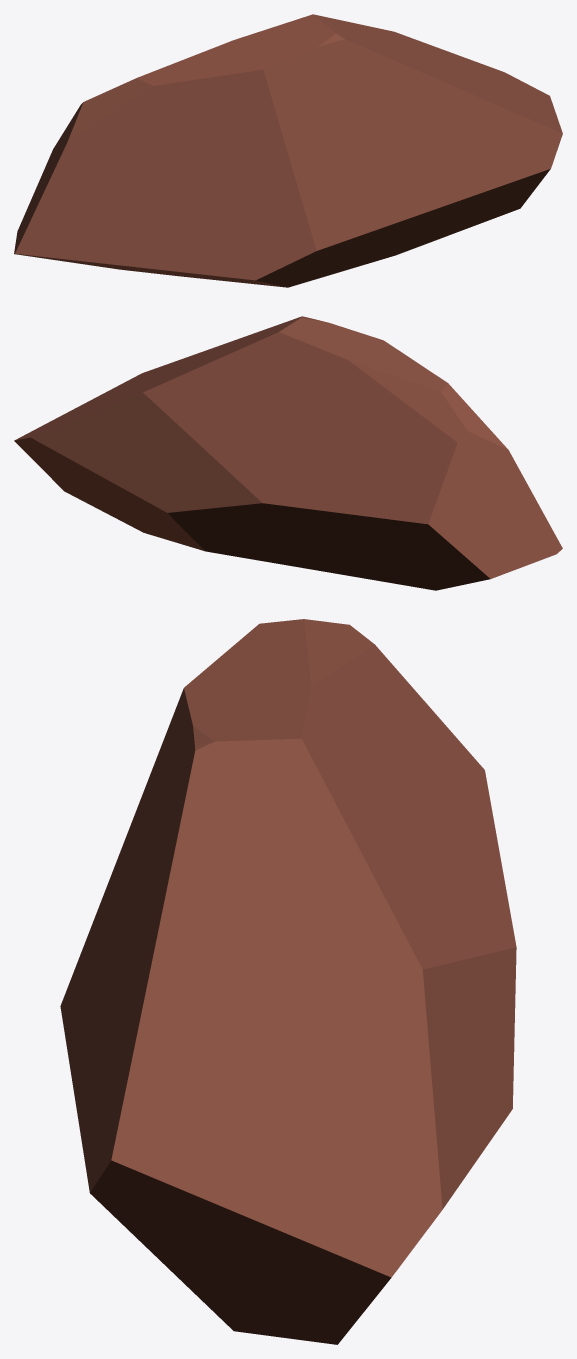
File: piedra1.fbx
3 views of the same model, one above another, from view 1: azimuth 30°, elevation 25°; view 2: azimuth 150°, elevation 25°; view 3: azimuth 270°, elevation 25° (orthographic). The views are drawn at different scales.
Visible parts, largest first — view 1: piedra1; view 2: piedra1; view 3: piedra1.
Boxes of the visible parts, bbox=[...] form: piedra1: bbox=[14, 14, 562, 287]; piedra1: bbox=[14, 316, 562, 590]; piedra1: bbox=[60, 619, 516, 1344].
Bounding box in the file's own units: 463 × 191 × 175.
